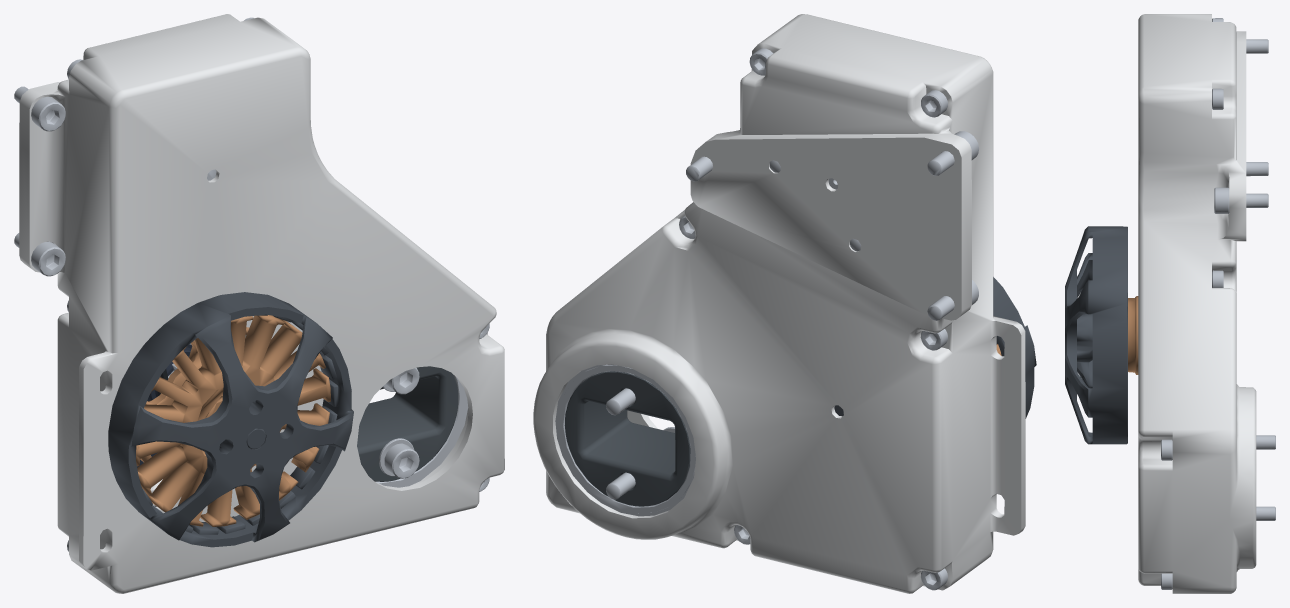
File: right_hip_aa_LOD0.fbx
3 renders of one model, left to right at view 1: azimuth 30°, elevation 25°; view 2: azimuth 150°, elevation 25°; view 3: azimuth 270°, elevation 25°, orthographic. The views are drawn at different scales.
Parts seen in each view (by area): view 1: MM_bolt_hip_aa_structure_right_side_bl_biped_b806c89c6e, MM_bolt_motor_antigravity_4004_rotor_b61f586c7e, MM_bolt_motor_antigravity_4004_stator_e830cca9c1, MM_bolt_transmission_pulley_at3_t30_output_8784a3ce4a, MM_bolt_bearing_32_25_4_sbn_61705rs_19ef8da9f9, MM_bolt_fastener_shcs_m3_8_6e14592070, MM_bolt_fastener_shcs_m3_8_393363c880, MM_bolt_fastener_shcs_m3_22_be698f52e7; view 2: MM_bolt_hip_aa_structure_right_side_bl_biped_b806c89c6e, MM_bolt_transmission_pulley_at3_t30_output_8784a3ce4a, MM_bolt_bearing_32_25_4_sbn_61705rs_64627857d1, MM_bolt_motor_antigravity_4004_rotor_b61f586c7e, MM_bolt_fastener_shcs_m3_8_6e14592070; view 3: MM_bolt_hip_aa_structure_right_side_bl_biped_b806c89c6e, MM_bolt_motor_antigravity_4004_rotor_b61f586c7e, MM_bolt_motor_antigravity_4004_stator_e830cca9c1, MM_bolt_fastener_shcs_m3_8_59f79daf29, MM_bolt_fastener_shcs_m3_8_6e14592070, MM_bolt_fastener_shcs_m3_8_393363c880, MM_bolt_fastener_shcs_m3_22_539b6df73f, MM_bolt_fastener_shcs_m3_22_be698f52e7.
Part boxes in pixels (left/top/right/bottom): MM_bolt_hip_aa_structure_right_side_bl_biped_b806c89c6e: left=19, top=14, right=504, bottom=593; MM_bolt_motor_antigravity_4004_rotor_b61f586c7e: left=108, top=292, right=353, bottom=547; MM_bolt_motor_antigravity_4004_stator_e830cca9c1: left=136, top=315, right=330, bottom=526; MM_bolt_transmission_pulley_at3_t30_output_8784a3ce4a: left=357, top=366, right=458, bottom=481; MM_bolt_bearing_32_25_4_sbn_61705rs_19ef8da9f9: left=375, top=375, right=468, bottom=487; MM_bolt_fastener_shcs_m3_8_6e14592070: left=14, top=86, right=65, bottom=131; MM_bolt_fastener_shcs_m3_8_393363c880: left=14, top=233, right=65, bottom=276; MM_bolt_fastener_shcs_m3_22_be698f52e7: left=384, top=443, right=419, bottom=478; MM_bolt_hip_aa_structure_right_side_bl_biped_b806c89c6e: left=533, top=14, right=1025, bottom=593; MM_bolt_transmission_pulley_at3_t30_output_8784a3ce4a: left=564, top=371, right=690, bottom=506; MM_bolt_bearing_32_25_4_sbn_61705rs_64627857d1: left=555, top=364, right=695, bottom=516; MM_bolt_motor_antigravity_4004_rotor_b61f586c7e: left=993, top=277, right=1036, bottom=418; MM_bolt_fastener_shcs_m3_8_6e14592070: left=927, top=131, right=978, bottom=175; MM_bolt_hip_aa_structure_right_side_bl_biped_b806c89c6e: left=1138, top=14, right=1256, bottom=593; MM_bolt_motor_antigravity_4004_rotor_b61f586c7e: left=1065, top=226, right=1127, bottom=444; MM_bolt_motor_antigravity_4004_stator_e830cca9c1: left=1128, top=296, right=1138, bottom=374; MM_bolt_fastener_shcs_m3_8_59f79daf29: left=1214, top=187, right=1268, bottom=213; MM_bolt_fastener_shcs_m3_8_6e14592070: left=1246, top=39, right=1268, bottom=53; MM_bolt_fastener_shcs_m3_8_393363c880: left=1246, top=162, right=1268, bottom=176; MM_bolt_fastener_shcs_m3_22_539b6df73f: left=1256, top=435, right=1275, bottom=449; MM_bolt_fastener_shcs_m3_22_be698f52e7: left=1256, top=506, right=1275, bottom=520.
Size of the model in its own units: 0.0844 by 0.0957 by 0.0429.
